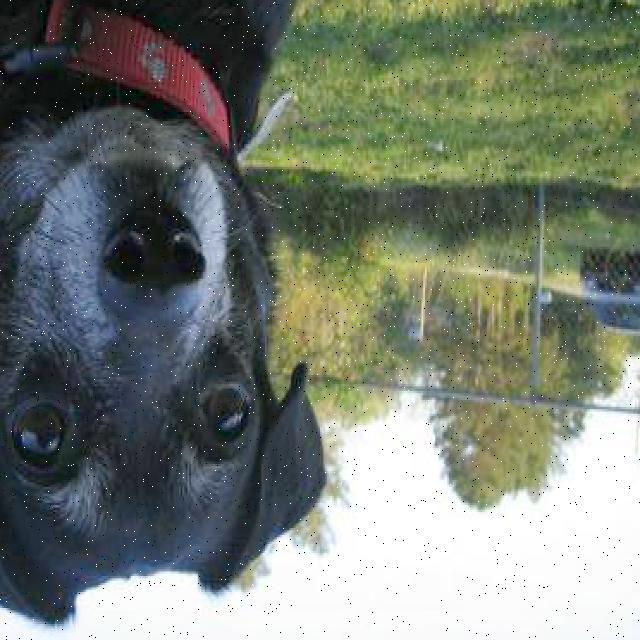Dog: (0, 123, 329, 640)
